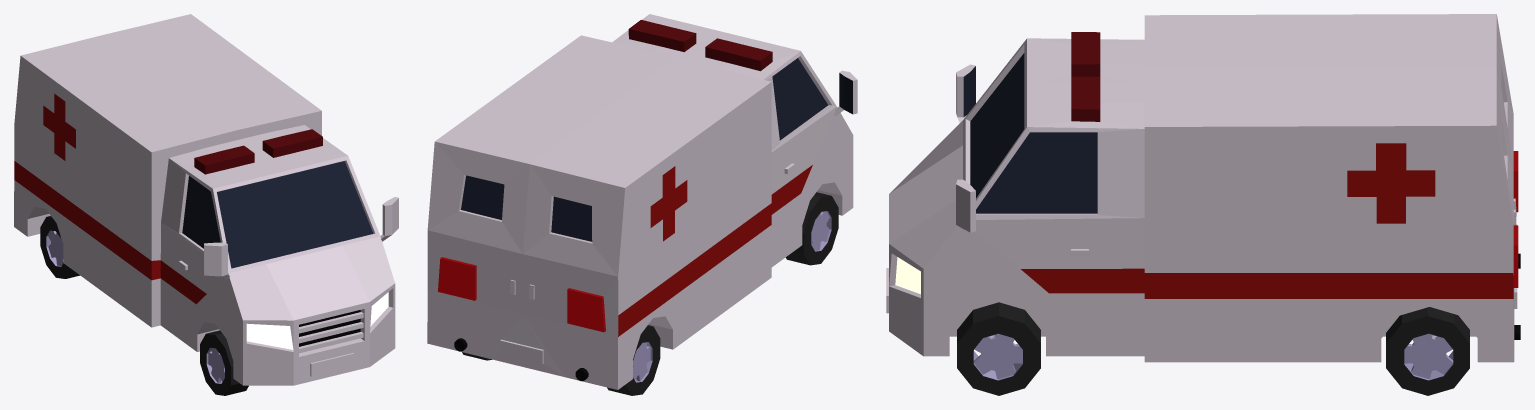
File: ambulance.glb
3 renders of one model, left to right at view 1: azimuth 30°, elevation 25°; view 2: azimuth 150°, elevation 25°; view 3: azimuth 270°, elevation 25°, orthographic. The views are drawn at different scales.
Visible parts, largest first — view 1: Ambulance, wheel_front_right, wheel_rear_right; view 2: Ambulance, wheel_front_right, wheel_rear_right; view 3: Ambulance, wheel_front_left, wheel_rear_left.
Part boxes in pixels (x1,y1,x2,y2): Ambulance: (14,14,398,385); wheel_front_right: (200,330,248,395); wheel_rear_right: (40,216,79,278); Ambulance: (427,14,857,389); wheel_front_right: (785,192,838,265); wheel_rear_right: (607,325,660,395); Ambulance: (886,14,1520,362); wheel_front_left: (957,302,1040,395); wheel_rear_left: (1386,307,1469,395).
Bounding box in the file's own units: 281 × 285 × 591.
